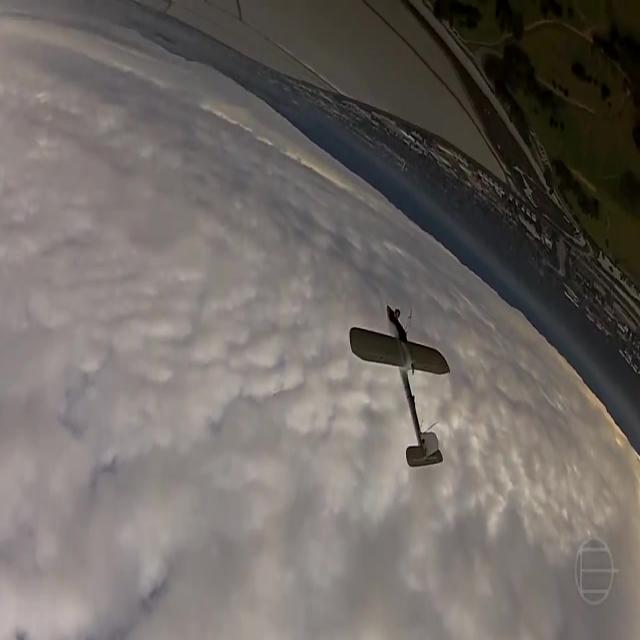iha: (378, 302, 419, 469)
